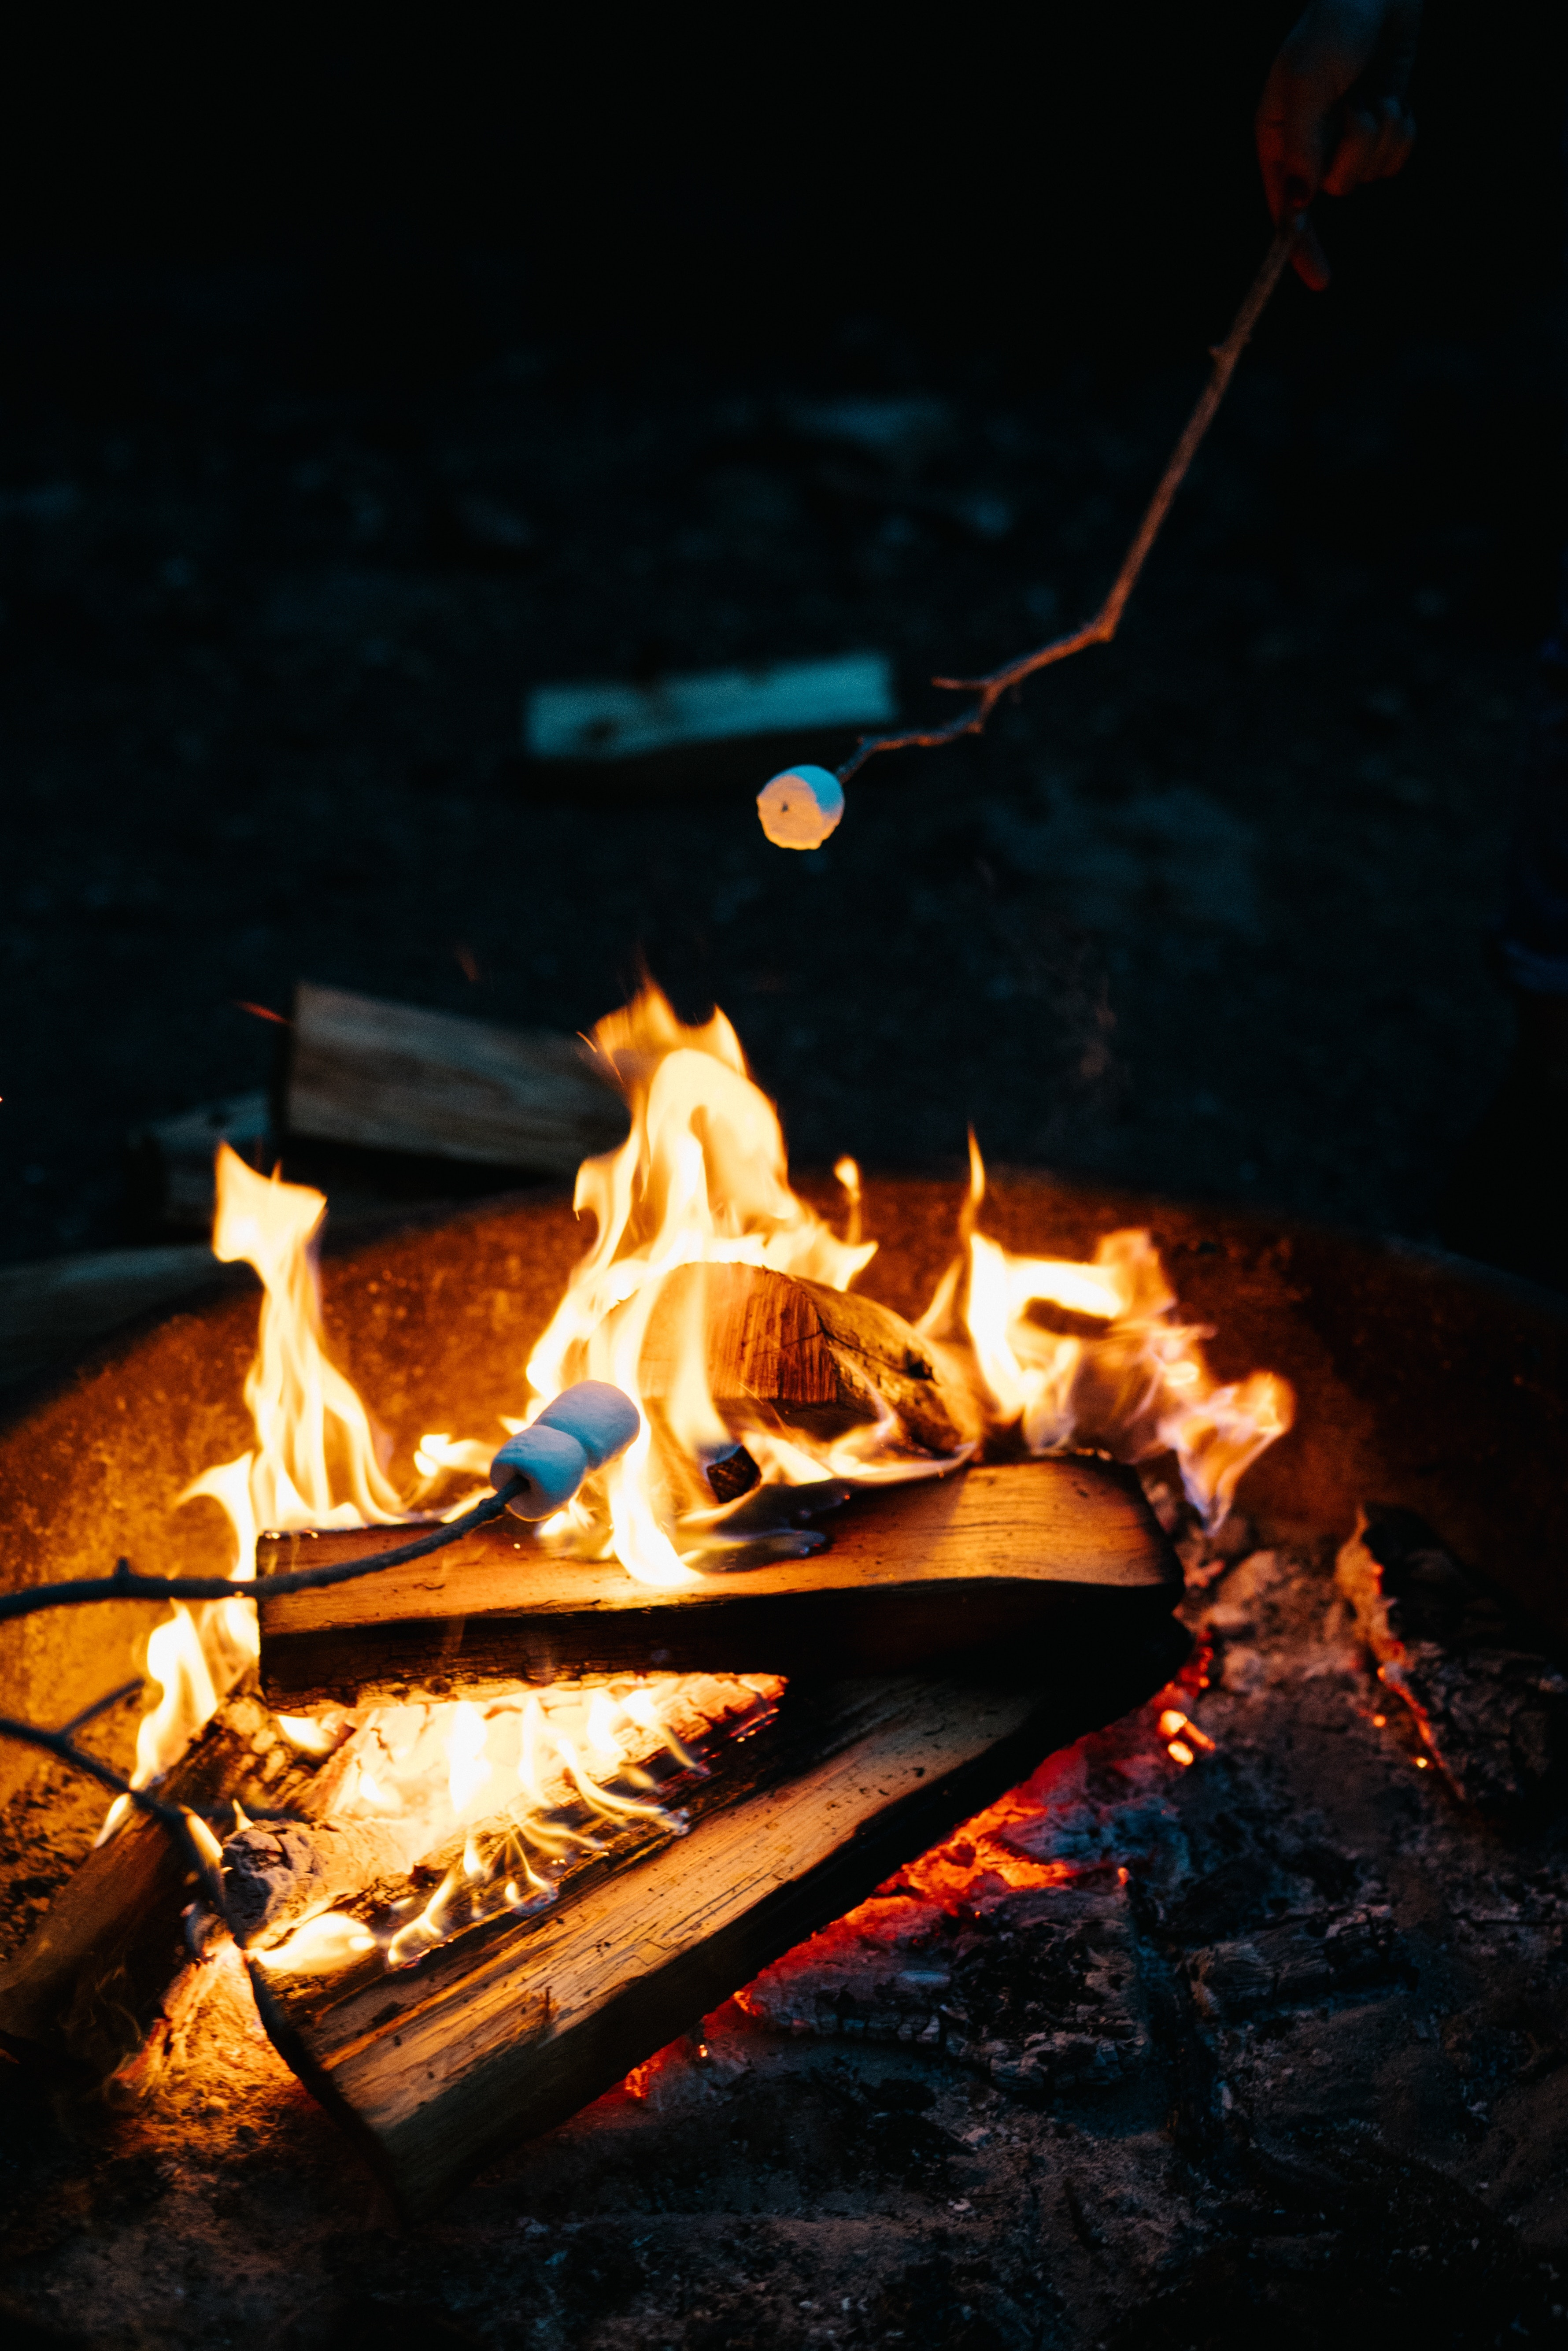fire: (107, 956, 1340, 1976)
